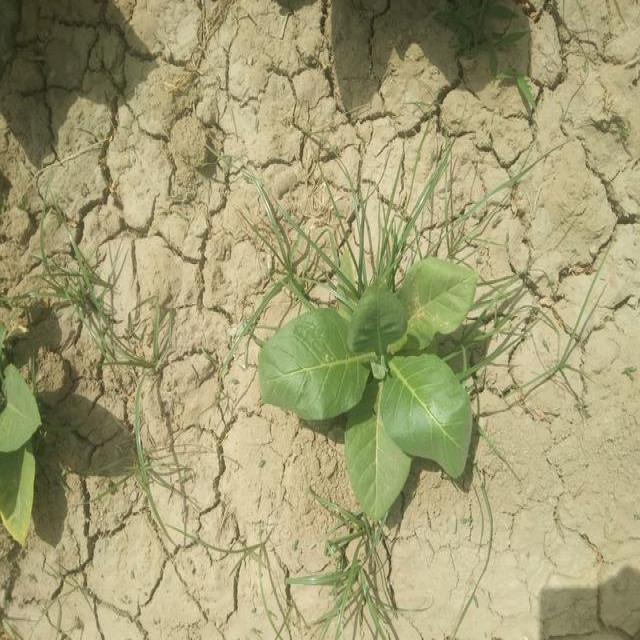crop: (252, 257, 485, 534)
